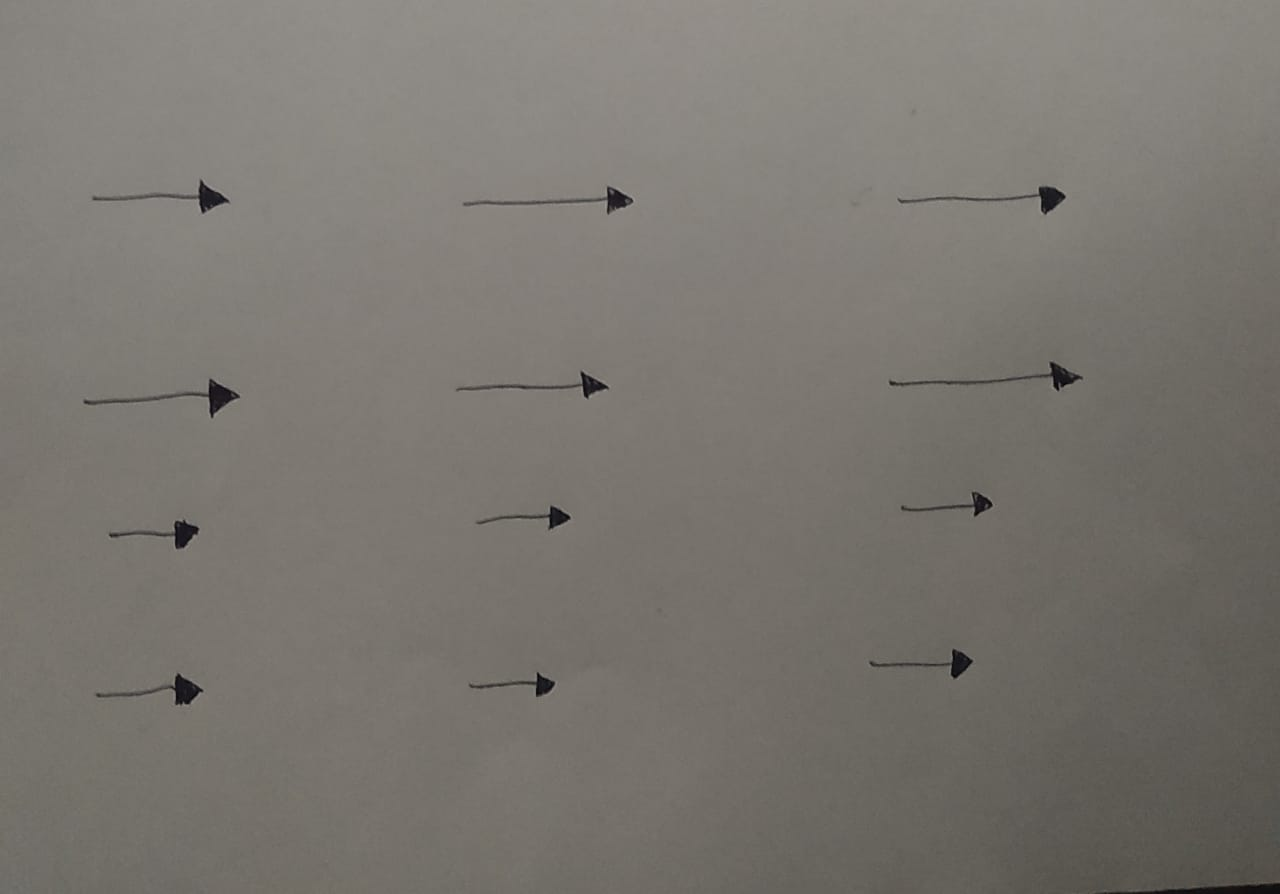arrow_line_right: (460, 174, 642, 232), (883, 357, 1085, 407), (897, 174, 1073, 230), (78, 372, 248, 425), (85, 169, 233, 227), (448, 364, 615, 410), (865, 634, 980, 697), (90, 667, 212, 720), (463, 657, 565, 712), (103, 507, 210, 557), (470, 494, 578, 542), (892, 484, 1002, 530)
